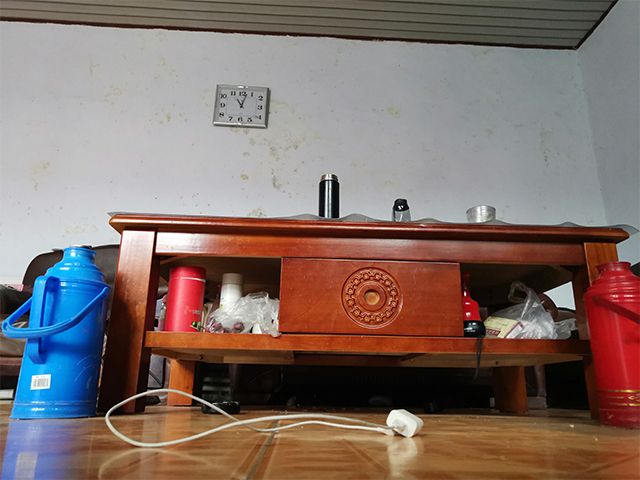table: (99, 208, 640, 421)
wire: (104, 387, 425, 448)
